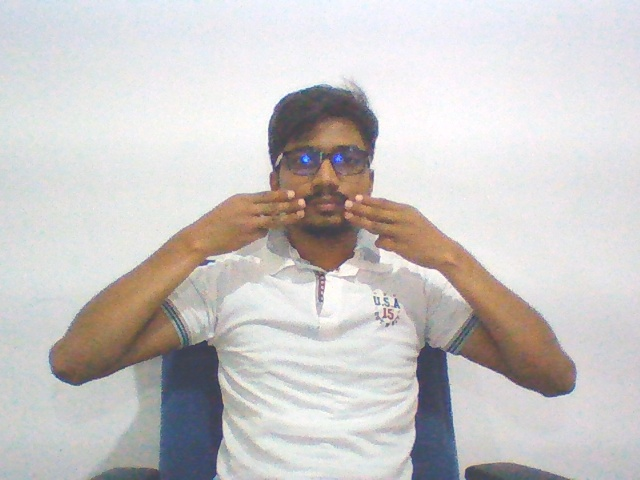cat: (172, 184, 465, 285)
